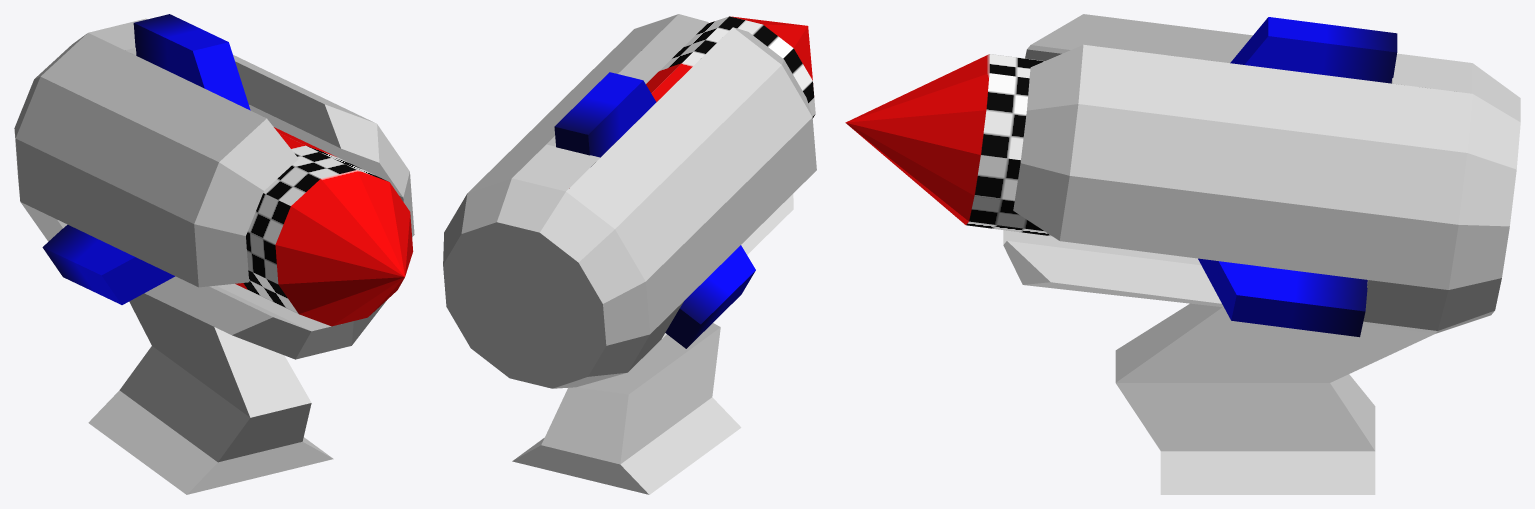
Rendered from RocketLauncher.fbx.
The picture shows the model from 3 angles, left to right: view 1: azimuth 30°, elevation 25°; view 2: azimuth 150°, elevation 25°; view 3: azimuth 270°, elevation 25°; orthographic projection. The views are drawn at different scales.
Parts seen in each view (by area): view 1: Launcher, Rocket; view 2: Launcher, Rocket; view 3: Launcher, Rocket.
Part boxes in pixels (<box>): Launcher: <box>14,18,414,494</box>; Rocket: <box>42,14,413,326</box>; Launcher: <box>443,14,816,494</box>; Rocket: <box>554,16,815,348</box>; Launcher: <box>1003,14,1520,494</box>; Rocket: <box>845,17,1397,337</box>.
Size of the model in its own units: 116 by 177 by 253.
